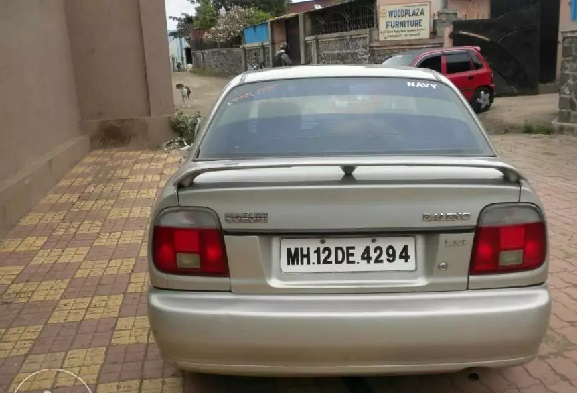licenseplate: (278, 236, 423, 274)
